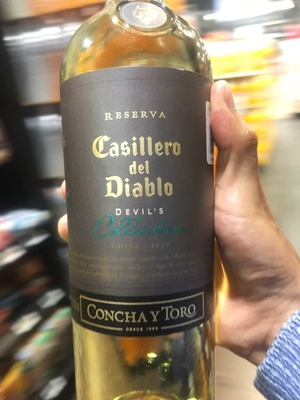casillero del diablo devils collection verde: (52, 20, 228, 400)
